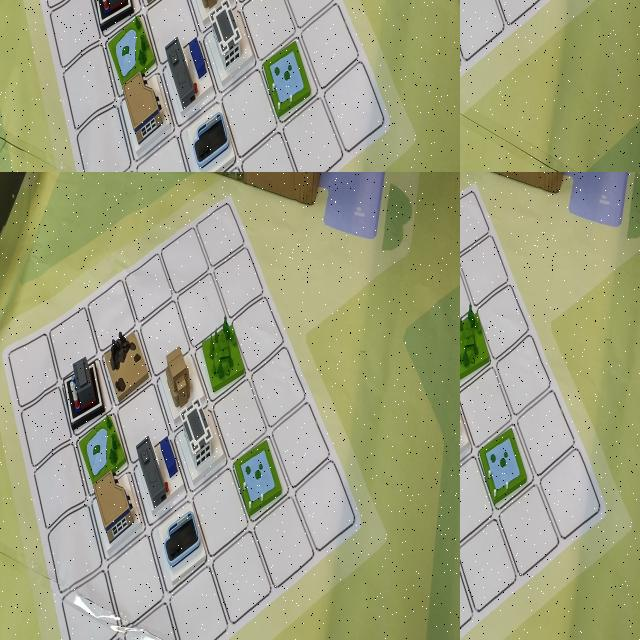bus_stop: (260, 25, 318, 131), (156, 236, 215, 334), (460, 407, 485, 491), (460, 0, 496, 54)
factory: (460, 0, 503, 124), (118, 48, 175, 139), (71, 326, 121, 414), (460, 343, 483, 407)
fish_pool: (479, 426, 527, 501), (0, 411, 33, 491), (481, 0, 542, 35)
forest: (356, 0, 423, 64), (460, 0, 503, 65), (460, 305, 493, 380)
gogo_shop: (226, 89, 282, 172), (500, 0, 569, 42), (0, 412, 28, 504), (460, 493, 486, 572)
research_build: (28, 442, 86, 552), (460, 394, 485, 472), (460, 0, 491, 49)
restaurant: (505, 0, 587, 77), (77, 437, 135, 545), (217, 0, 278, 90), (460, 468, 484, 540)
silicate_rock: (134, 521, 192, 614), (324, 119, 388, 172), (460, 0, 496, 53), (460, 309, 483, 388)
volunteer_center: (0, 269, 31, 366), (264, 136, 321, 172), (460, 317, 483, 396), (460, 0, 493, 55)
wet_land: (159, 96, 213, 172), (66, 279, 125, 340), (460, 0, 502, 56), (460, 400, 485, 468)
